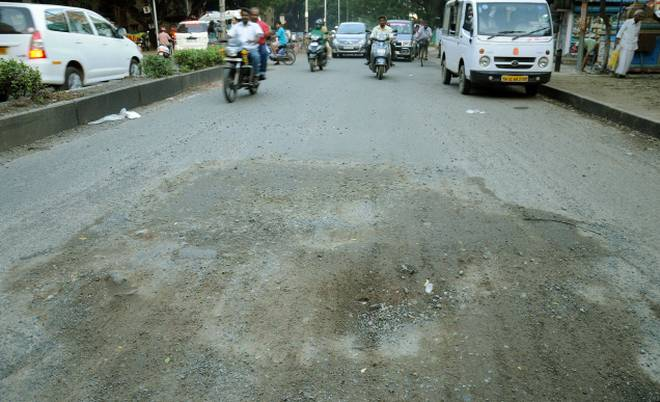pothole: (93, 177, 578, 400)
